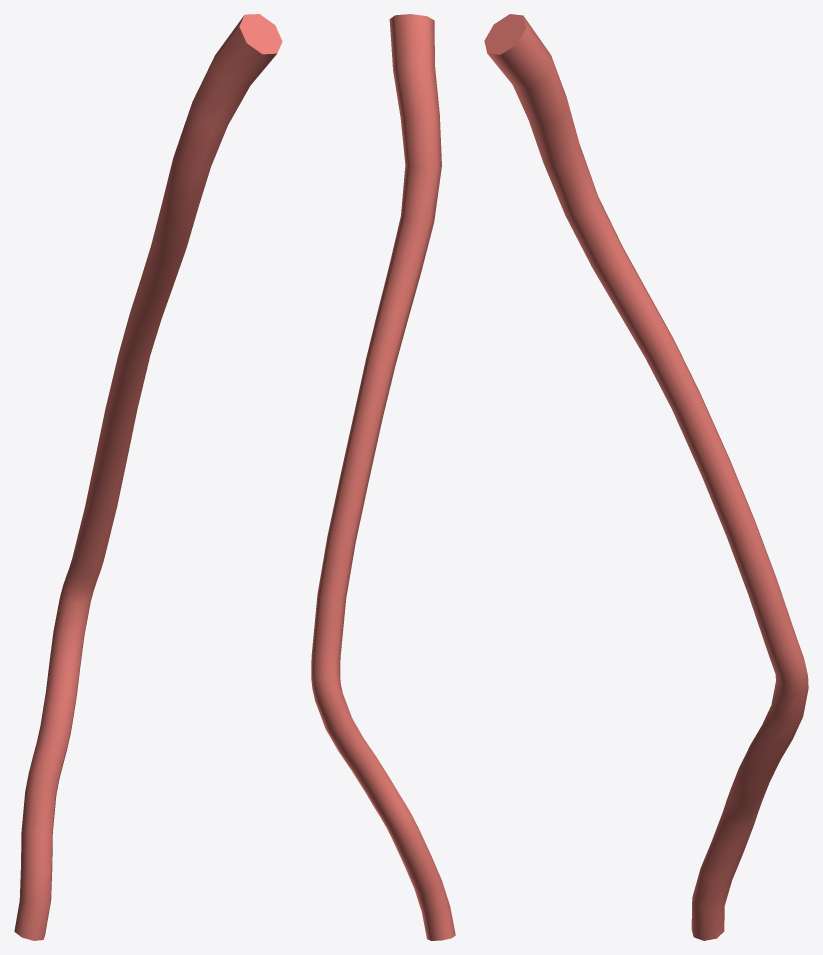
The model's file is artere-poplitee.glb.
3 views of the same model, side by side, from view 1: azimuth 30°, elevation 25°; view 2: azimuth 150°, elevation 25°; view 3: azimuth 270°, elevation 25° (orthographic). The views are drawn at different scales.
Visible parts, largest first — view 1: artere-poplitee; view 2: artere-poplitee; view 3: artere-poplitee.
Part boxes in pixels (<box>): artere-poplitee: <box>14,14,282,940</box>; artere-poplitee: <box>311,14,455,940</box>; artere-poplitee: <box>484,14,808,940</box>.
Bounding box in the file's own units: 0.0348 × 0.192 × 0.0575.
